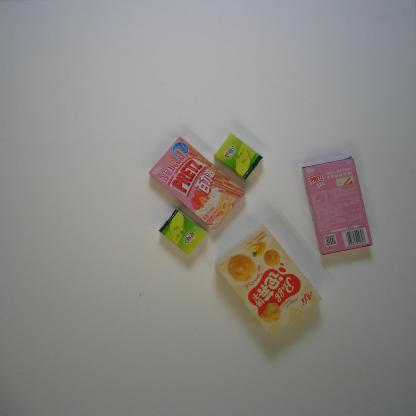Dessert: (214, 227, 323, 339), (148, 134, 246, 231), (300, 154, 376, 256)
Tissue: (156, 206, 209, 257), (213, 130, 264, 182)
